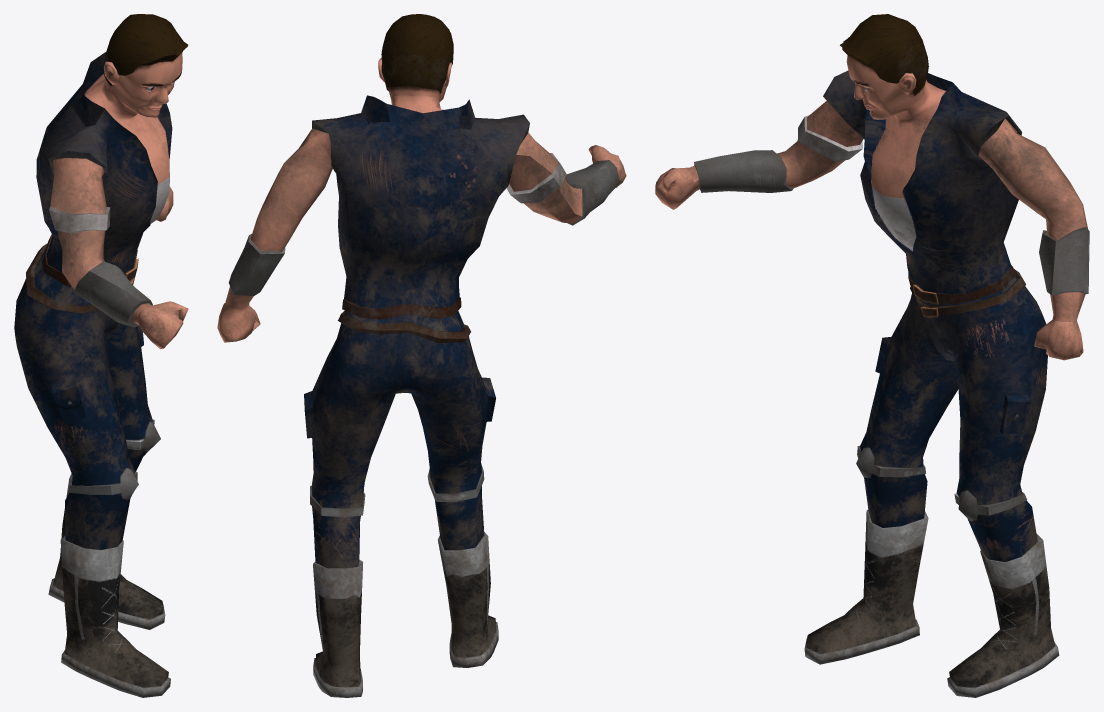
The model's file is Anim_puerta_mal_jugador.0029.obj.
3 renders of one model, left to right at view 1: azimuth 30°, elevation 25°; view 2: azimuth 150°, elevation 25°; view 3: azimuth 270°, elevation 25°, orthographic. The views are drawn at different scales.
Parts seen in each view (by area): view 1: polySurface1; view 2: polySurface1; view 3: polySurface1.
Part boxes in pixels (bbox=[...]): polySurface1: bbox=[14, 14, 188, 697]; polySurface1: bbox=[217, 14, 626, 697]; polySurface1: bbox=[655, 14, 1089, 697].
Size of the model in its own units: 3.55 by 9.39 by 5.68.
